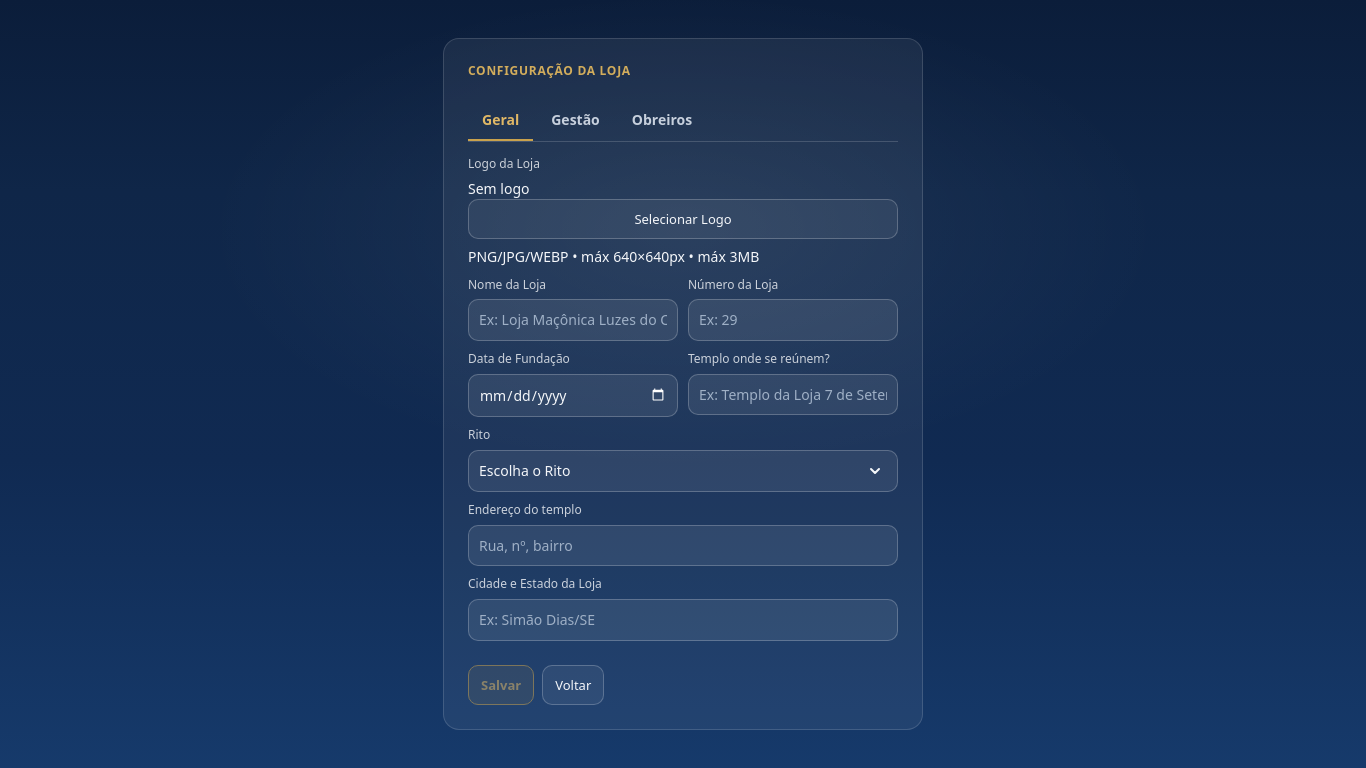
it: LojaConfigScreen › mostra o botao de cadastro apenas na aba Obreiros
Click the tab "Obreiros": (662, 120) [618, 100, 706, 141]
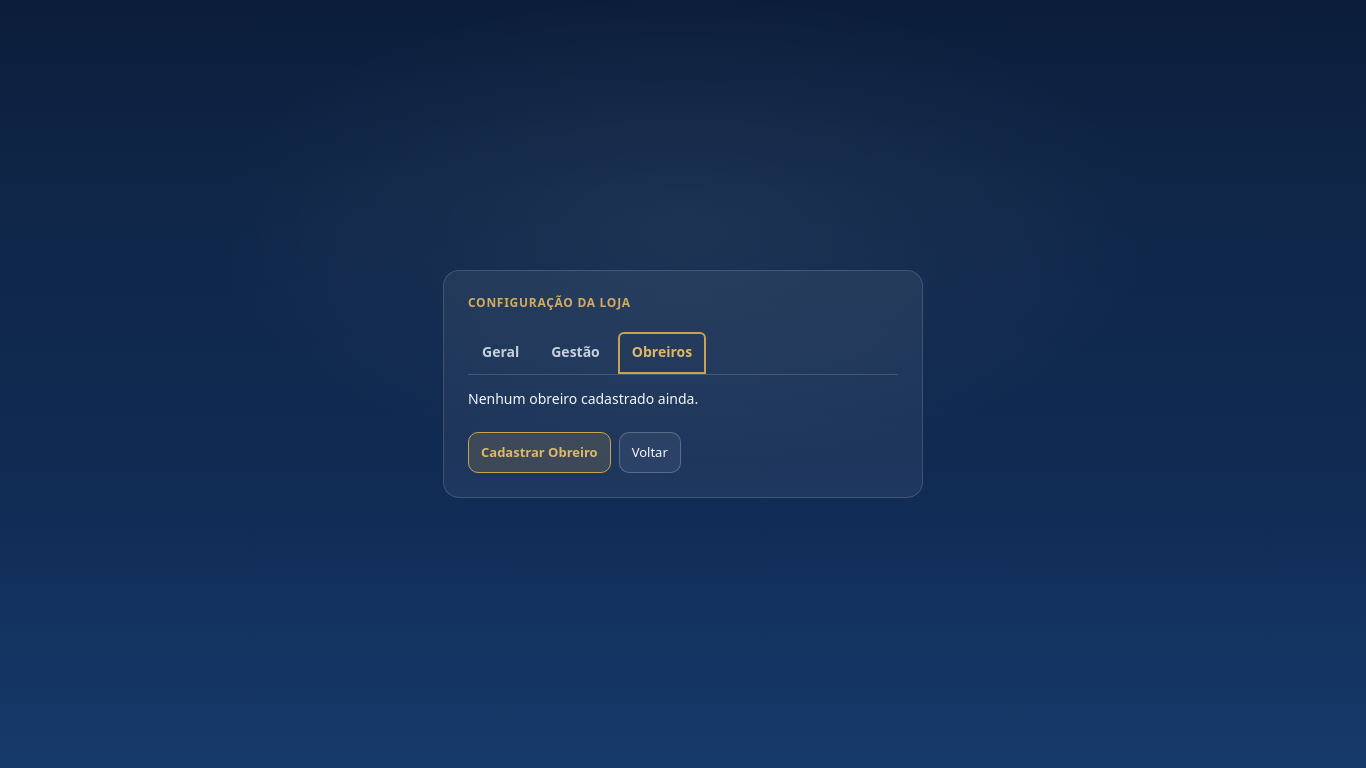
Result: the button "Cadastrar Obreiro" is shown at [468, 432, 611, 473]
